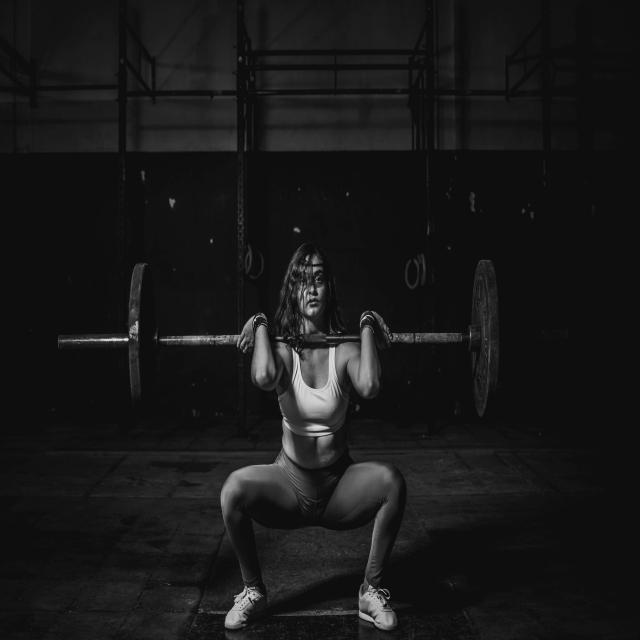sit: (220, 221, 417, 632)
